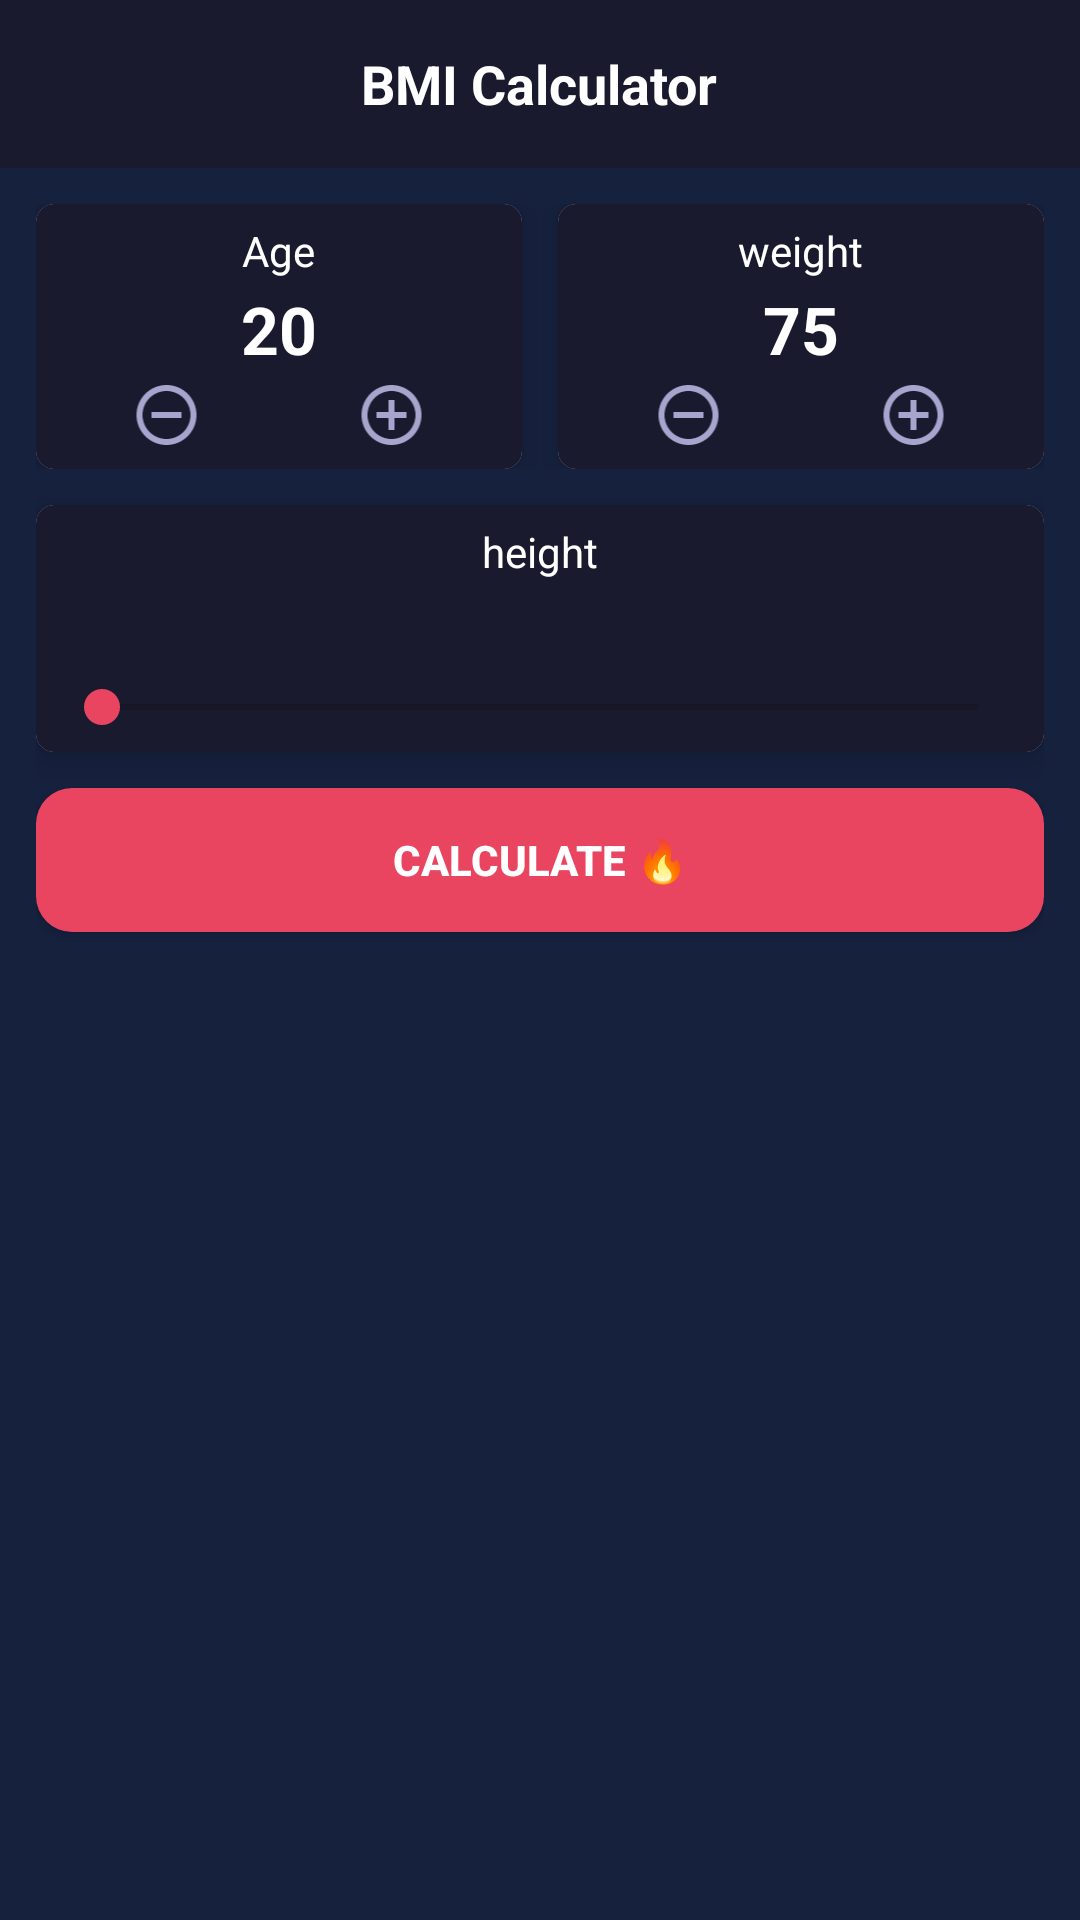

Where to tap for icons on this 1080×1920 app screen, as [x,y]:
add circle: [391,415], [913,415]
remove circle: [166,415], [688,415]
